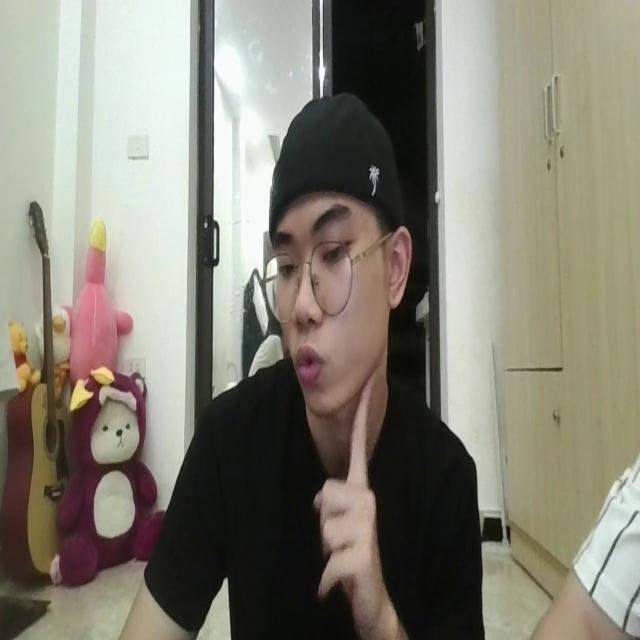student: (124, 88, 488, 640)
